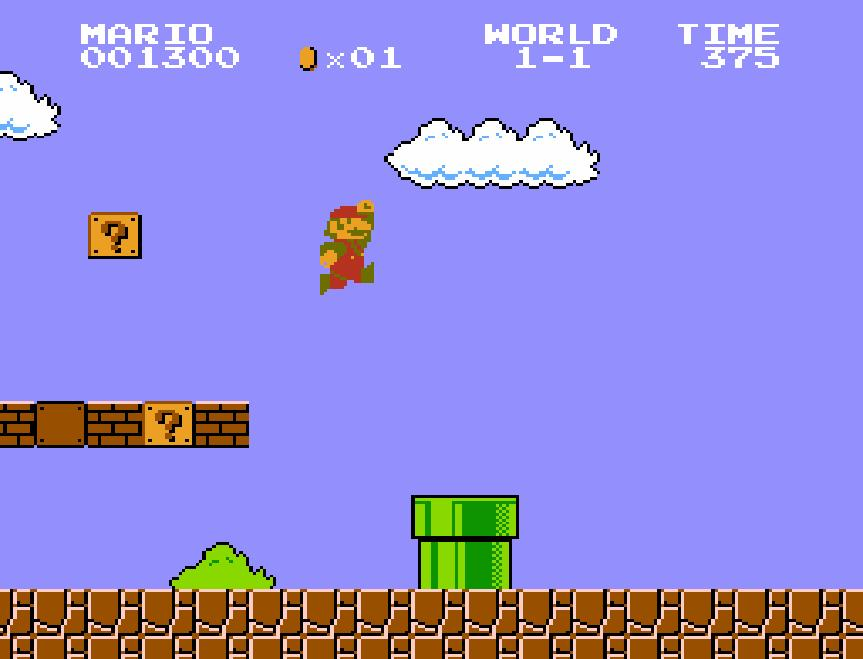big_mario: (318, 198, 376, 296)
